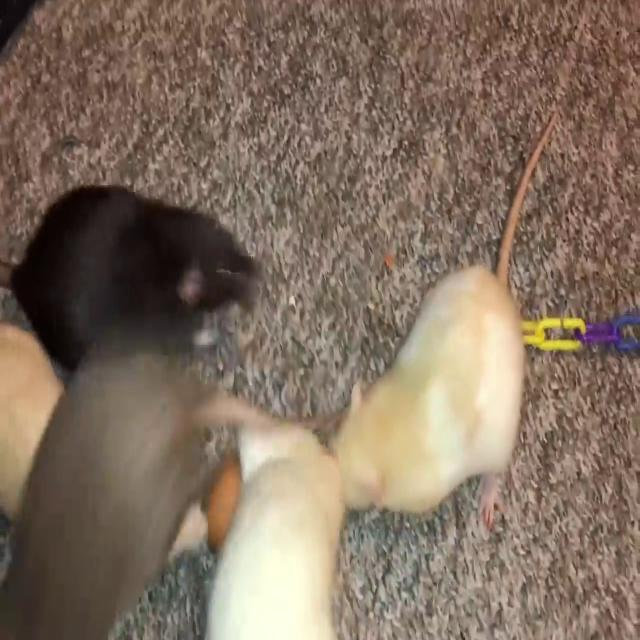rat: (334, 261, 528, 529), (9, 181, 260, 369)
